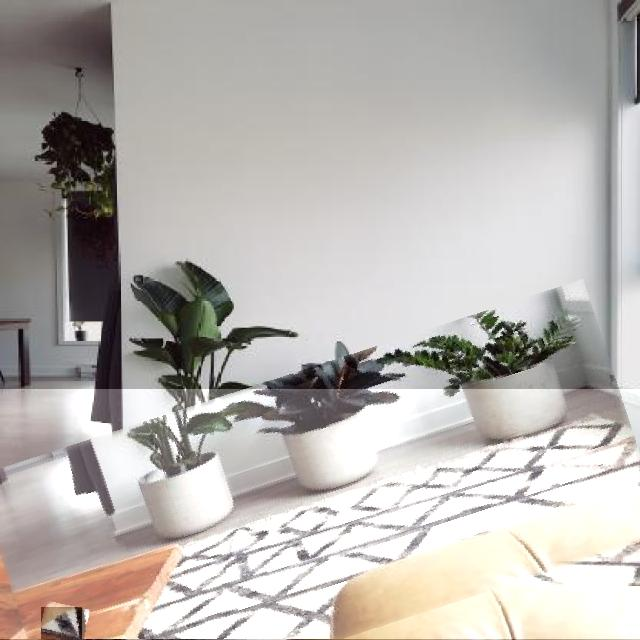floor: (0, 389, 640, 640), (42, 607, 82, 640)
